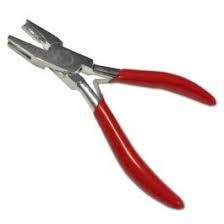pliers: (6, 17, 216, 210)
